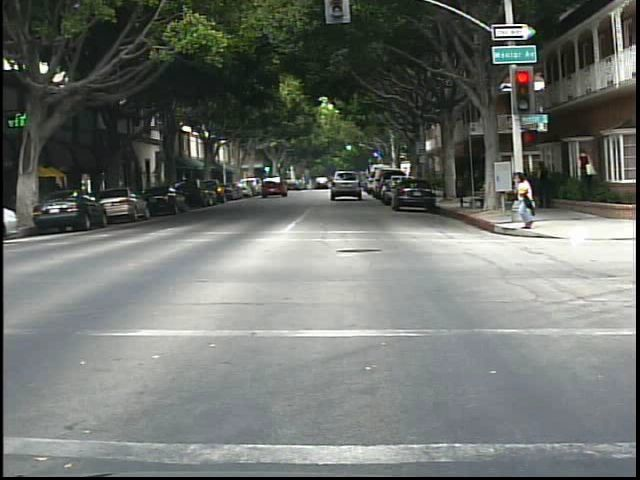person: (510, 165, 545, 233), (573, 144, 600, 203), (536, 156, 558, 213)
